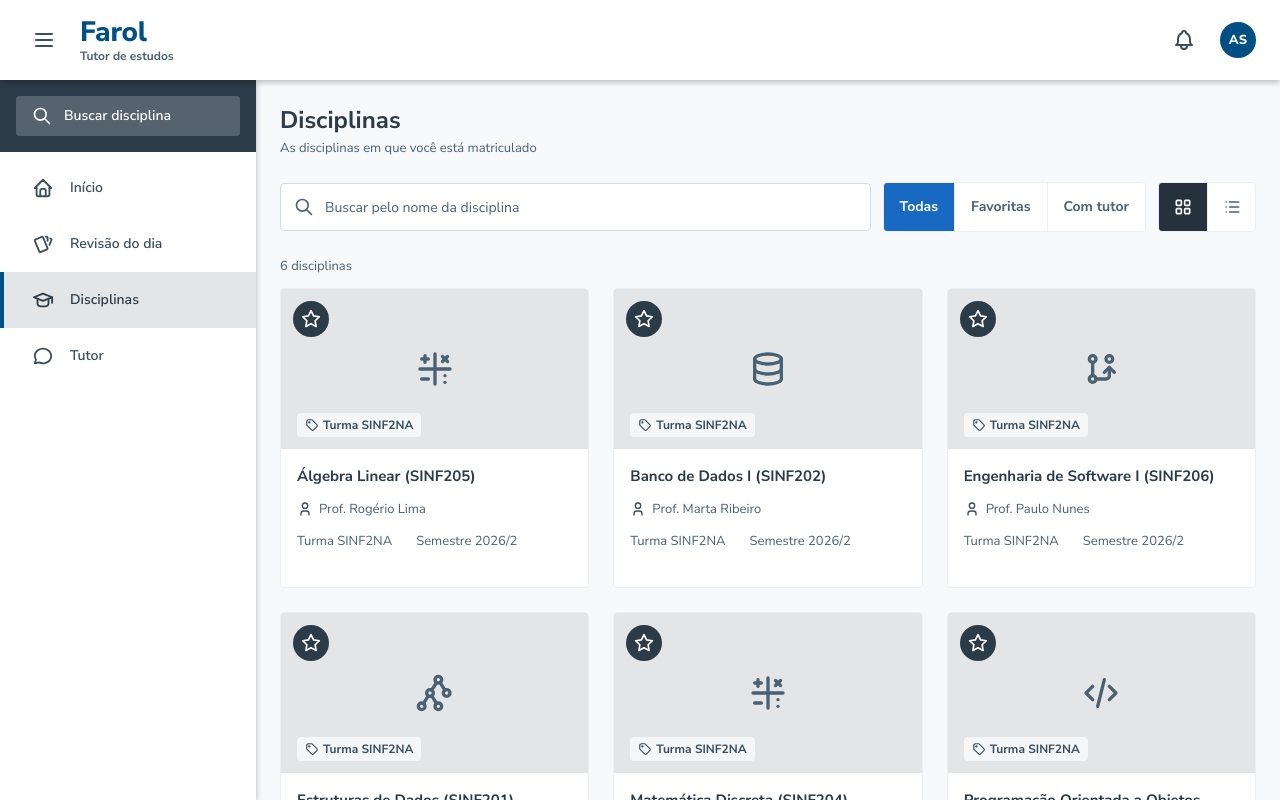
Scenario: tela de disciplinas (ACE-T33) › busca pelo nome: envia o texto digitado e mostra só o que a API devolve
Expected: the list named "Disciplinas" is shown, 280,288 -> 1256,799
In the search field named "Buscar disciplina": (575, 207) 280,183 -> 870,231, type "estruturas"
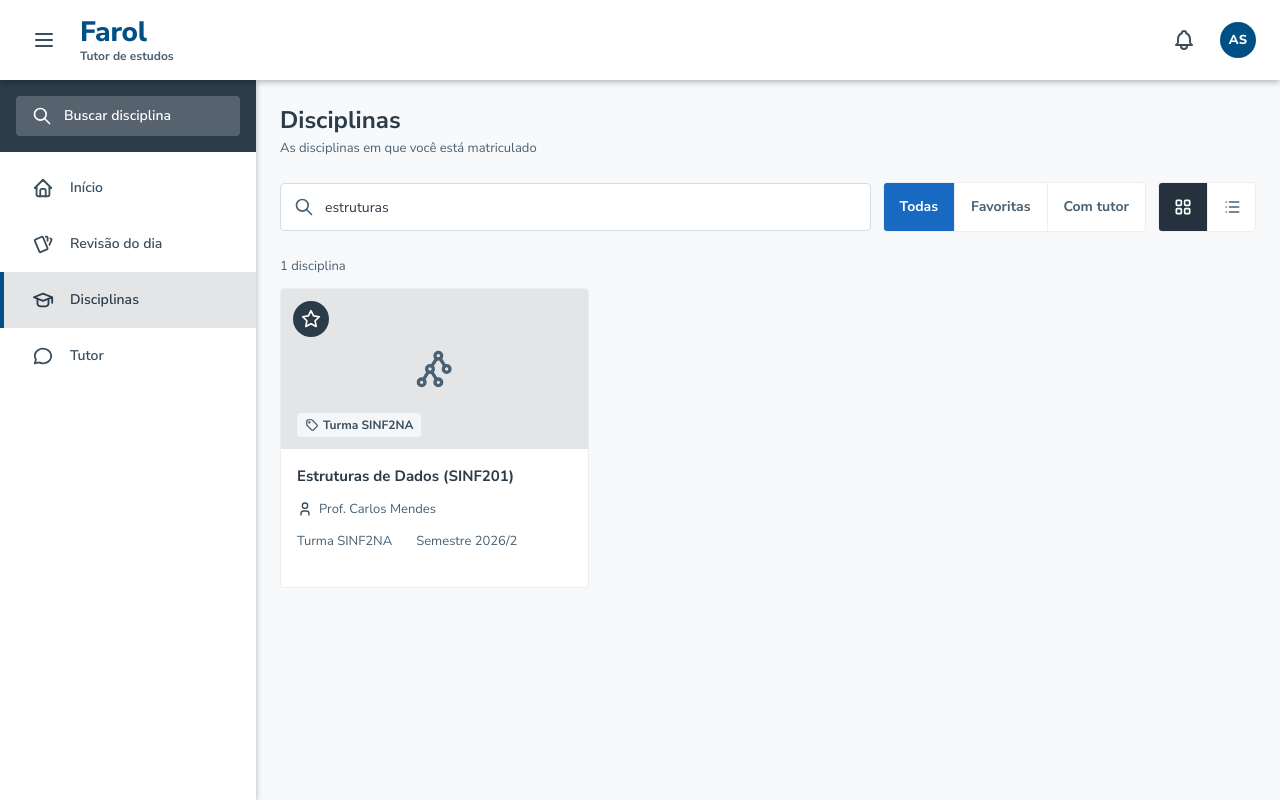
Expected: the link "Estruturas de Dados (SINF201)" is shown, 297,466 -> 514,486
Expected: the number of list items is 1, 280,288 -> 589,588
